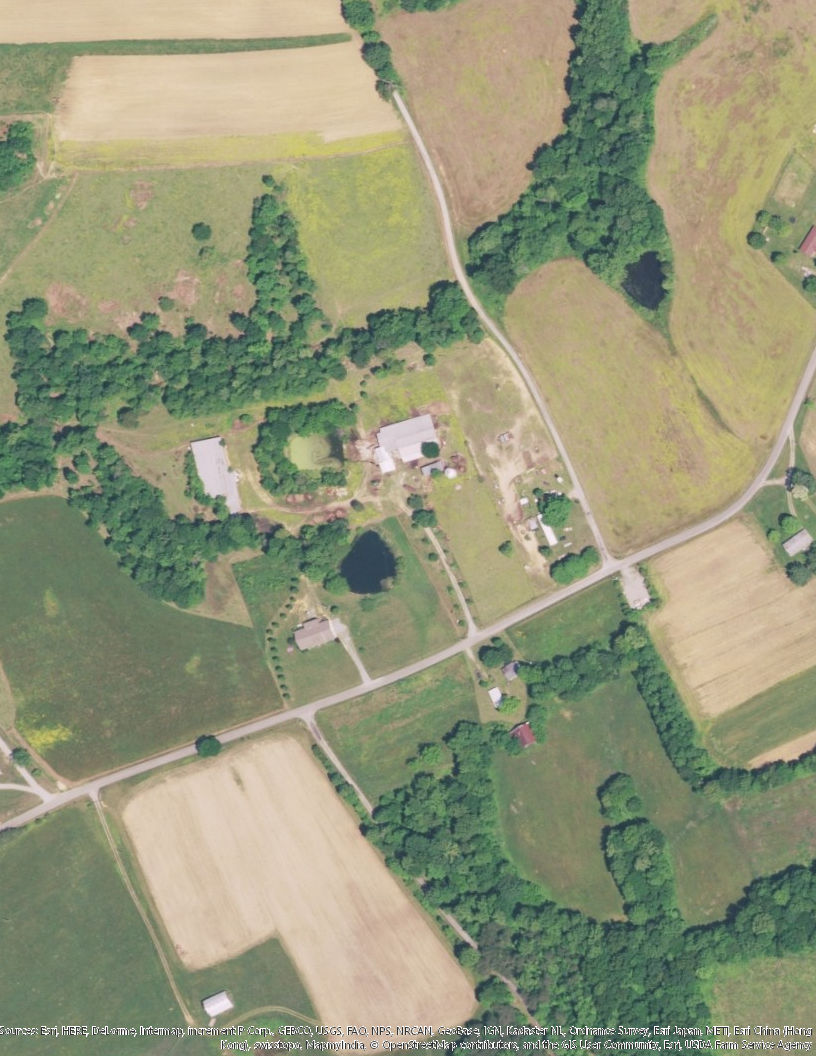cafo: (366, 413, 449, 472)
